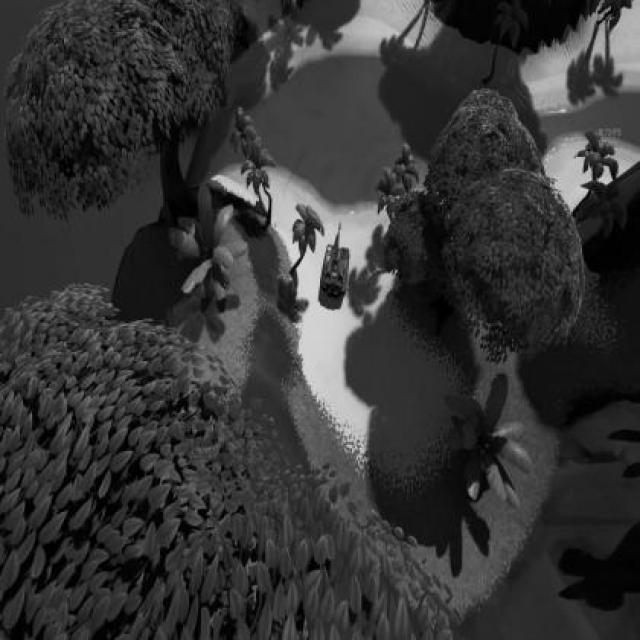tank: (322, 220, 351, 300)
